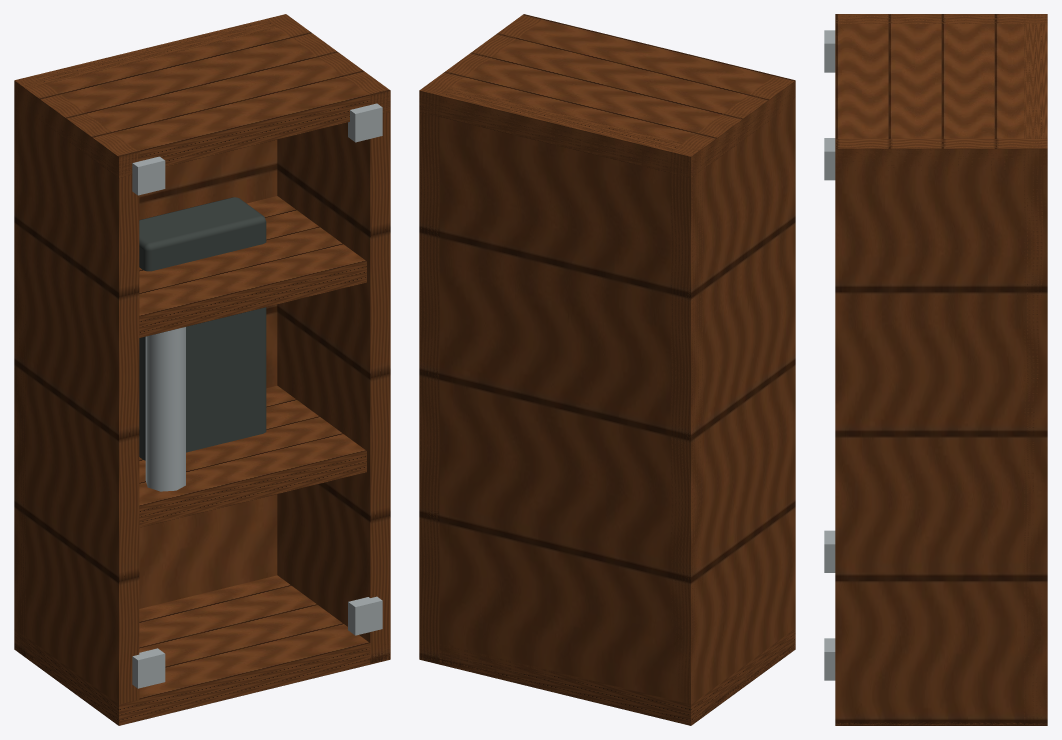
File: roadside-survival-stops-payphone-enclosure-5dfe5d4a__23559.glb
3 views of the same model, side by side, from view 1: azimuth 30°, elevation 25°; view 2: azimuth 150°, elevation 25°; view 3: azimuth 270°, elevation 25° (orthographic).
Visible parts, largest first — view 1: payphone-enclosure; view 2: payphone-enclosure; view 3: payphone-enclosure.
Boxes of the visible parts, x1,y1,x2,y2 form: payphone-enclosure: (14, 14, 390, 725); payphone-enclosure: (419, 14, 795, 725); payphone-enclosure: (824, 14, 1047, 725).
Bounding box in the file's own units: 0.6001 × 1.2 × 0.421.
Materials: 3 (1 with a texture image).
